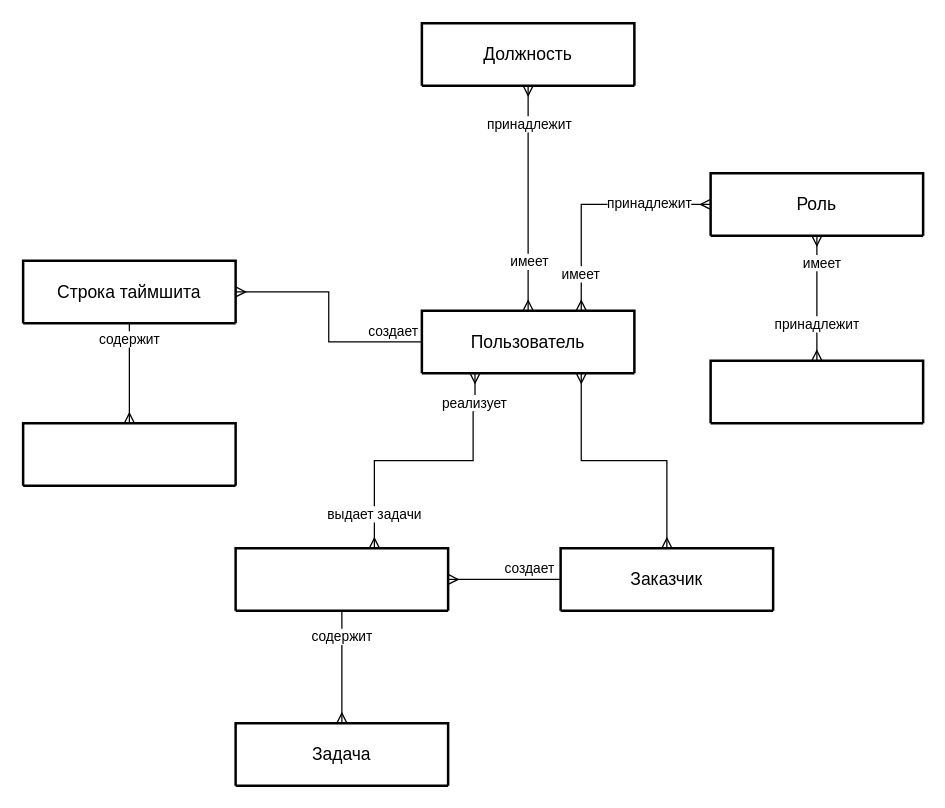
The diagram is 945 pixels wide and 808 high, and some of its shapes have lost their labels. Here are the shapes that lost their labels. From the top down, the centre of each, then its label:
At point (816, 391): "Доступ".
At point (128, 453): "Рабочий день".
At point (341, 578): "Проект".
